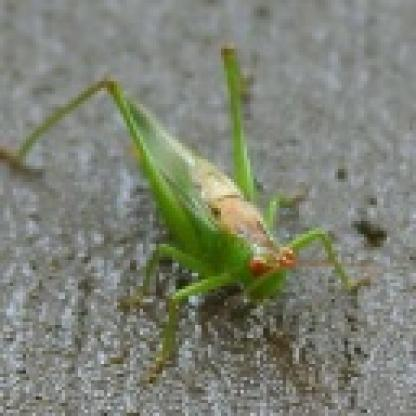grasshopper: (4, 41, 376, 376)
